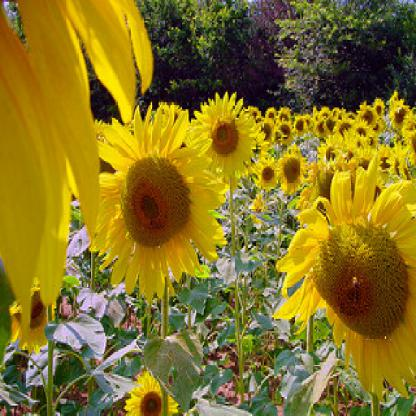SUN FLOWER: (9, 8, 412, 405)
